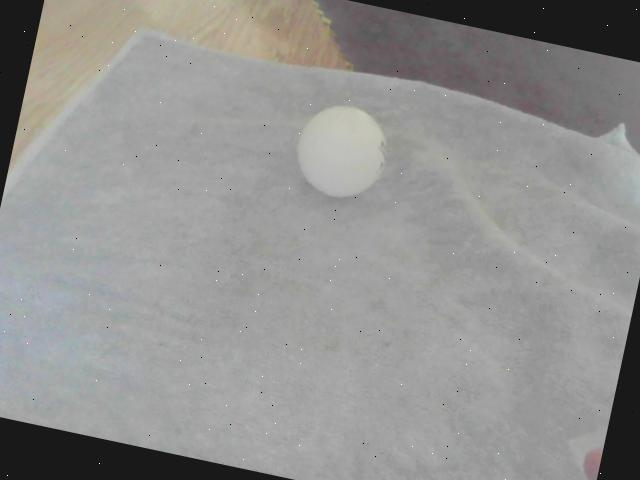ball: (289, 98, 394, 206)
